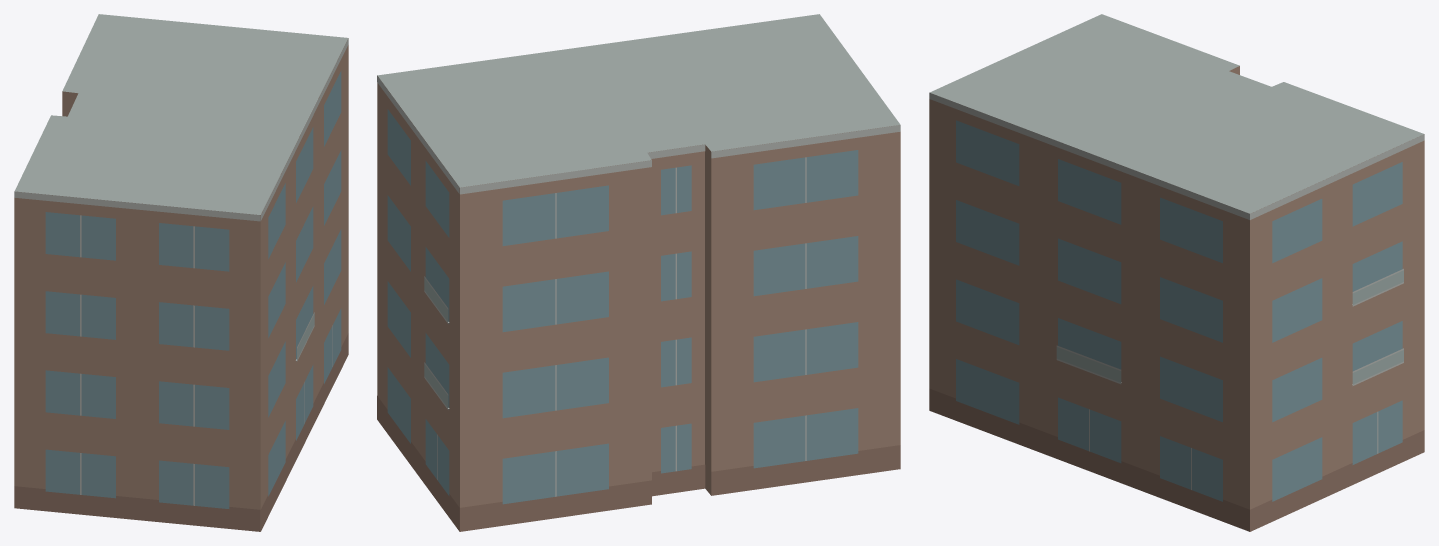
Rendered from survey-upis-32895733.glb.
The picture shows the model from 3 angles, left to right: view 1: azimuth 30°, elevation 25°; view 2: azimuth 150°, elevation 25°; view 3: azimuth 270°, elevation 25°; orthographic projection. The views are drawn at different scales.
Visible parts, largest first — view 1: survey-upis-32895733.tmp; view 2: survey-upis-32895733.tmp; view 3: survey-upis-32895733.tmp.
Part boxes in pixels (box(x1,y1,x2,y2)): survey-upis-32895733.tmp: box(14, 14, 348, 531); survey-upis-32895733.tmp: box(377, 14, 900, 531); survey-upis-32895733.tmp: box(929, 14, 1424, 531).
Bounding box in the file's own units: 16.45 × 12.2 × 17.22.
